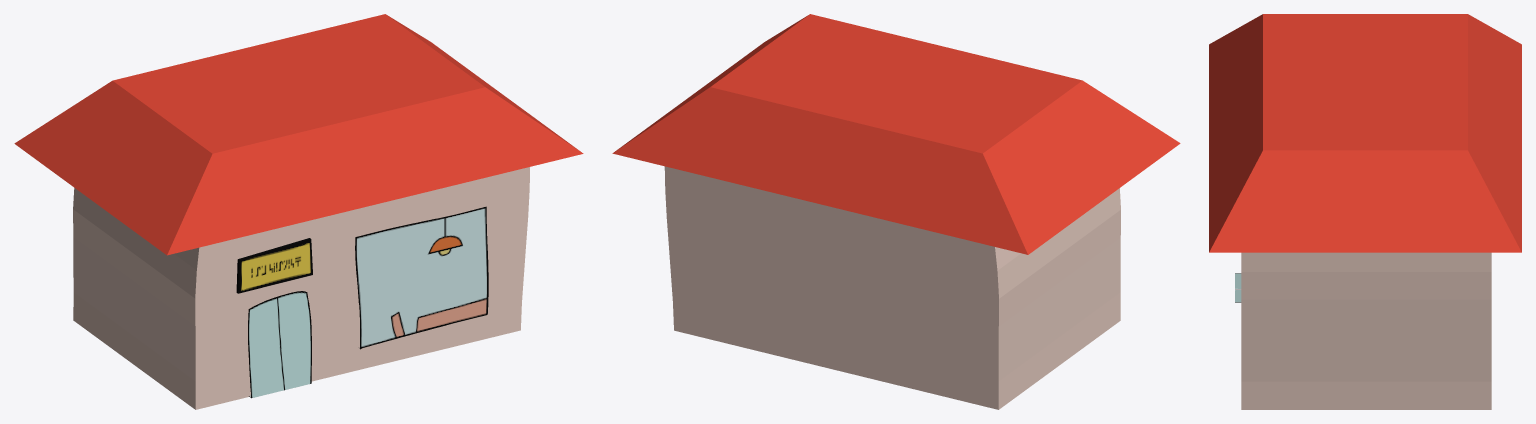
Rendered from Building 6.fbx.
The picture shows the model from 3 angles, left to right: view 1: azimuth 30°, elevation 25°; view 2: azimuth 150°, elevation 25°; view 3: azimuth 270°, elevation 25°; orthographic projection. The views are drawn at different scales.
Visible parts, largest first — view 1: Roof, Building, Plane, Plane.001, Plane.002; view 2: Roof, Building; view 3: Roof, Building.
Boxes of the visible parts, left/top/right/bottom form: Roof: left=14, top=14, right=583, bottom=255; Building: left=73, top=167, right=529, bottom=409; Plane: left=355, top=206, right=488, bottom=349; Plane.001: left=248, top=291, right=311, bottom=398; Plane.002: left=236, top=238, right=312, bottom=293; Roof: left=612, top=14, right=1180, bottom=254; Building: left=664, top=166, right=1120, bottom=409; Roof: left=1209, top=14, right=1521, bottom=252; Building: left=1241, top=252, right=1491, bottom=409.
Bounding box in the file's own units: 394 × 218 × 250.
